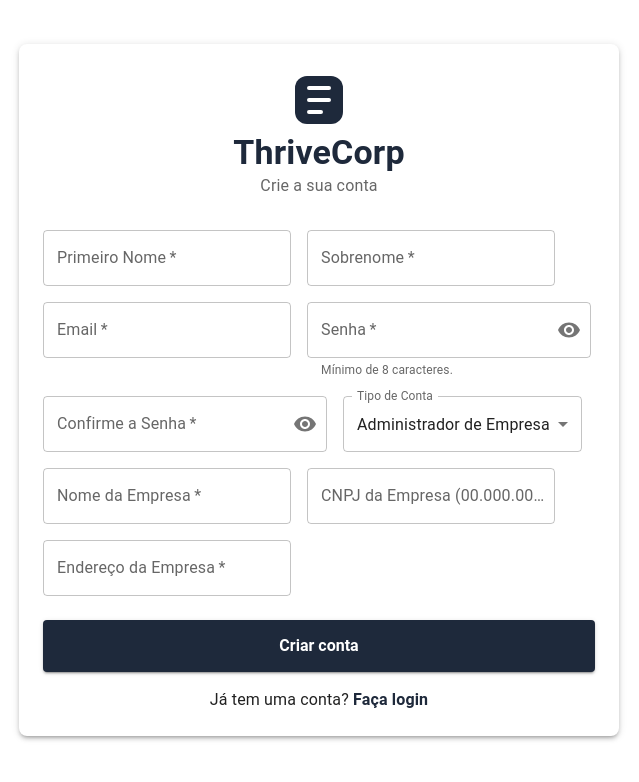
Test: RegisterPage Component › Validações do Formulário › deve limpar o erro ao digitar no campo
This screenshot has width=639, height=782.
Type "ruim" into the field labelled "Email *". click: [167, 330]
box: [43,302,291,358]
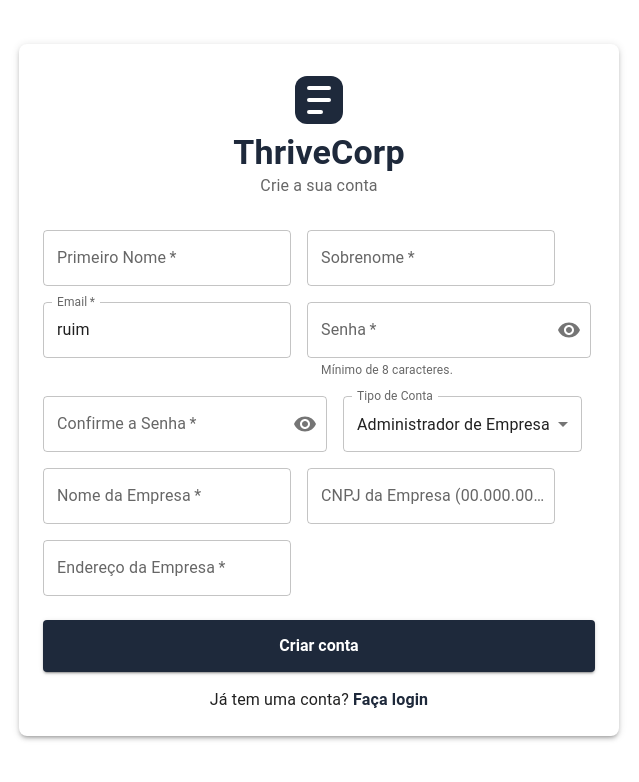
Click the button "Criar conta". click: [319, 646]
box: [43,620,595,672]
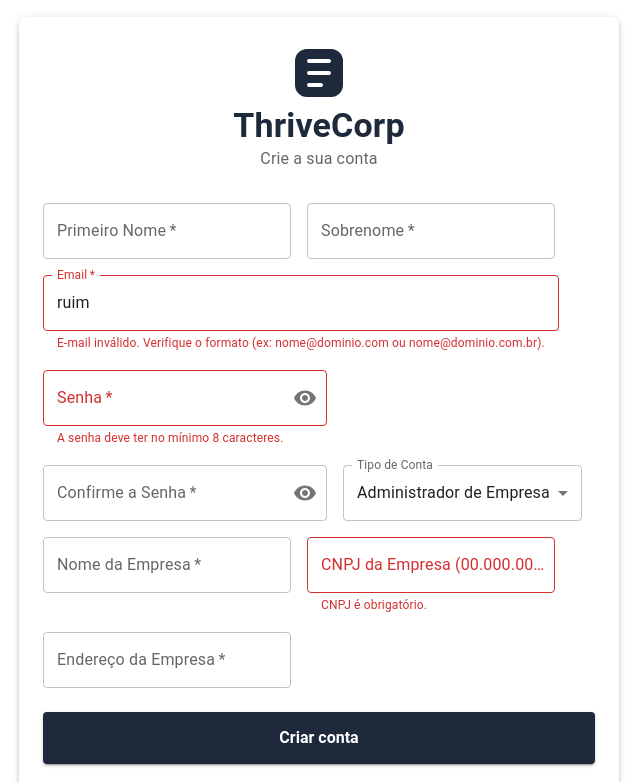
Expected: the text "E-mail inválido" is shown, [57,336,545,350]
Replace the text in the field labelled "Email *" with "bom@teste.com". click: [301, 303]
box: [43,275,559,331]
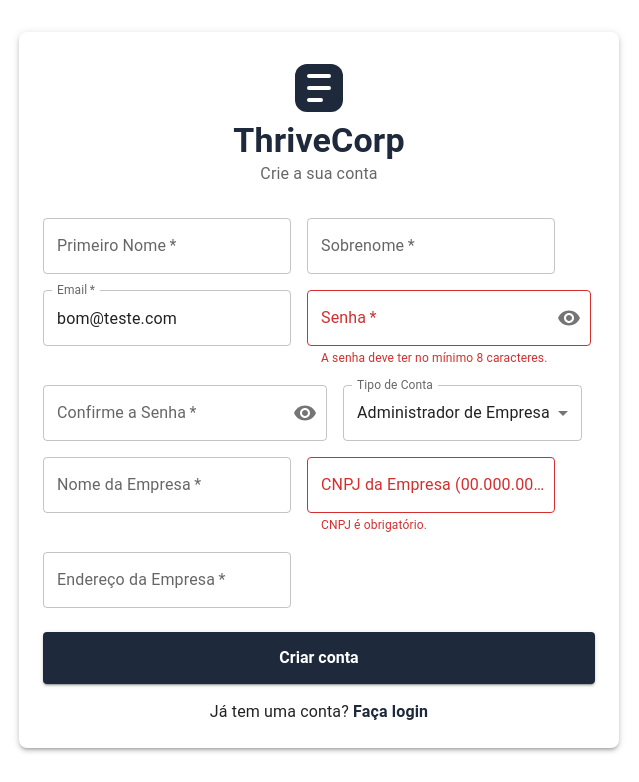
Expected: the text "E-mail inválido" is gone
